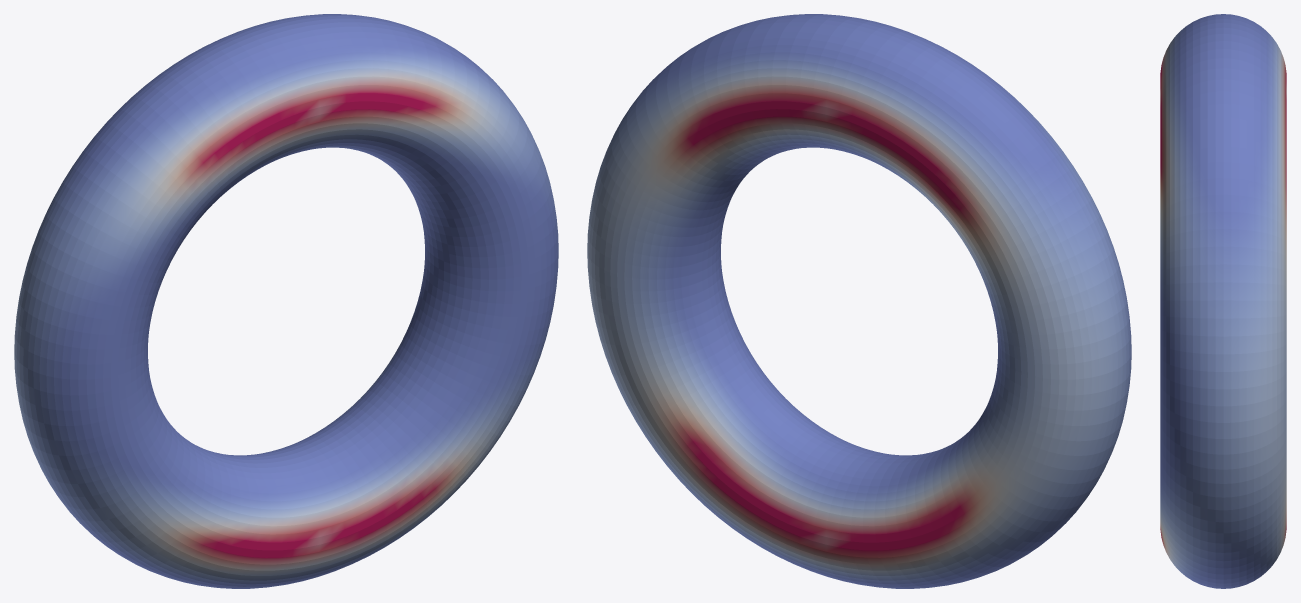
The picture shows the model from 3 angles, left to right: view 1: azimuth 30°, elevation 25°; view 2: azimuth 150°, elevation 25°; view 3: azimuth 270°, elevation 25°; orthographic projection. The views are drawn at different scales.
Parts seen in each view (by area): view 1: world; view 2: world; view 3: world.
Boxes of the visible parts, box(x1,y1,x2,y2) form: world: box(14, 14, 558, 588); world: box(587, 14, 1131, 588); world: box(1160, 14, 1286, 588).
Bounding box in the file's own units: 18.8 × 18.8 × 4.13.
